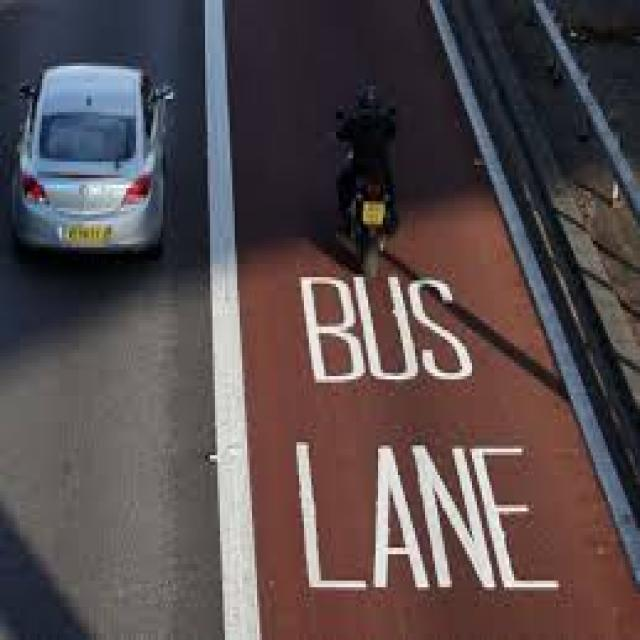BUS LANE: (277, 271, 571, 599)
Liniya 1: (206, 1, 263, 640)
